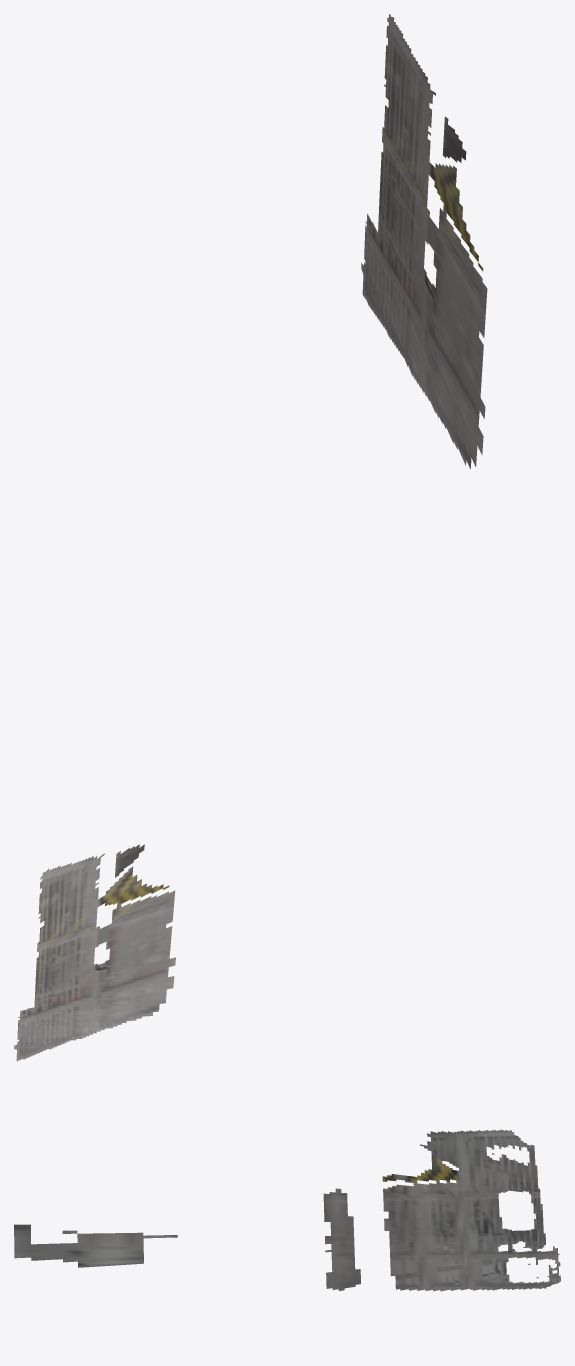
The model's file is fence-surface.glb.
3 renders of one model, top to bottom at view 1: azimuth 30°, elevation 25°; view 2: azimuth 150°, elevation 25°; view 3: azimuth 270°, elevation 25°, orthographic. The views are drawn at different scales.
Visible parts, largest first — view 1: panel-0-view4; view 2: panel-0-view4; view 3: panel-1-view2.
Boxes of the visible parts, x1=… form: panel-0-view4: x1=361, y1=14, x2=487, y2=469; panel-0-view4: x1=14, y1=844, x2=175, y2=1061; panel-1-view2: x1=14, y1=1129, x2=560, y2=1291.
Size of the model in its own units: 5.55 by 4.21 by 11.76.
